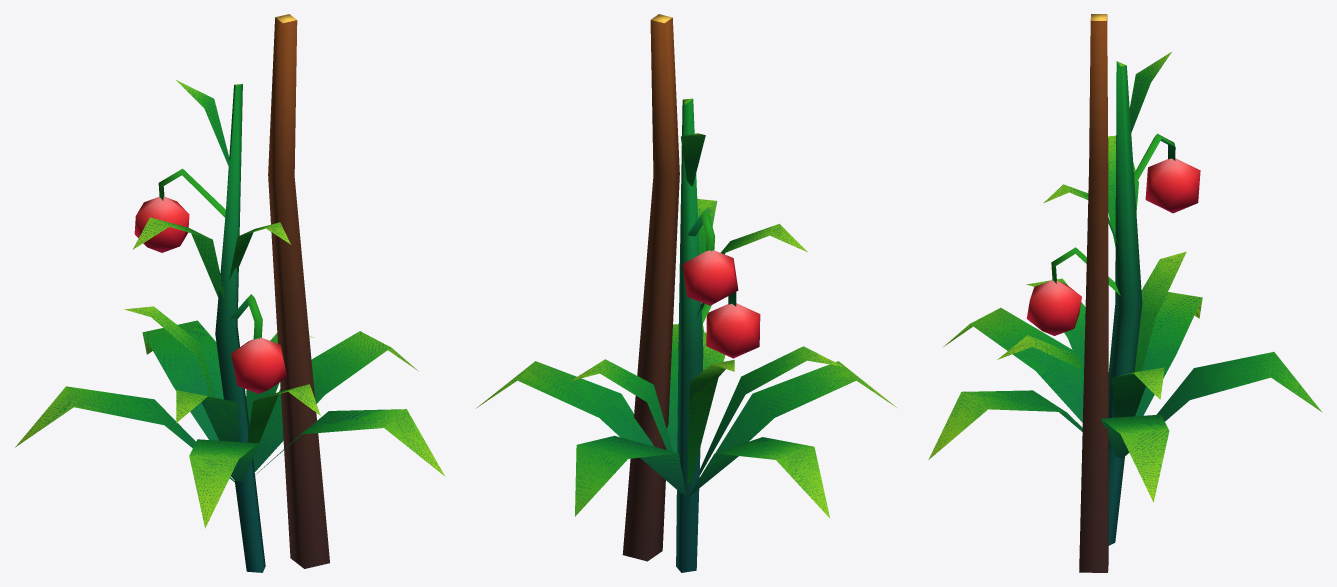
File: Agricultural_Plant_3A.fbx
The picture shows the model from 3 angles, left to right: view 1: azimuth 30°, elevation 25°; view 2: azimuth 150°, elevation 25°; view 3: azimuth 270°, elevation 25°; orthographic projection.
Visible parts, largest first — view 1: Agricultural_Plant_3A; view 2: Agricultural_Plant_3A; view 3: Agricultural_Plant_3A.
Part boxes in pixels (x1=…): Agricultural_Plant_3A: x1=15, y1=14, x2=444, y2=572; Agricultural_Plant_3A: x1=475, y1=14, x2=896, y2=572; Agricultural_Plant_3A: x1=928, y1=14, x2=1322, y2=572.
Bounding box in the file's own units: 1.03 × 1.4 × 0.9293.
